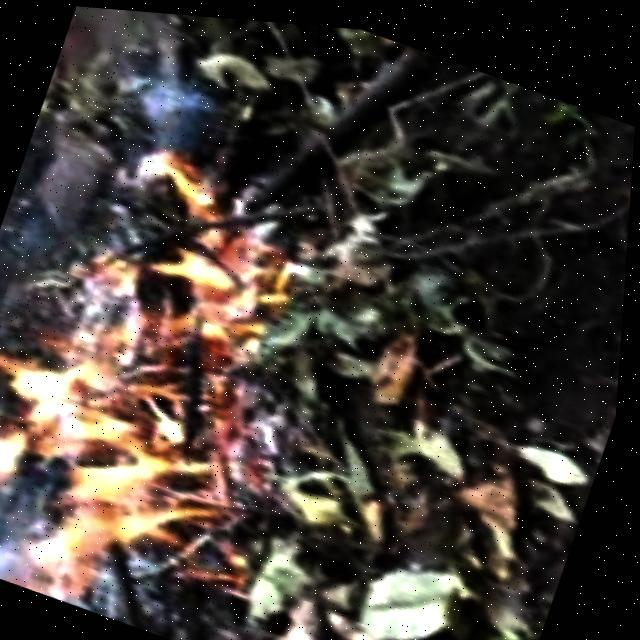Fire: (0, 100, 389, 640)
